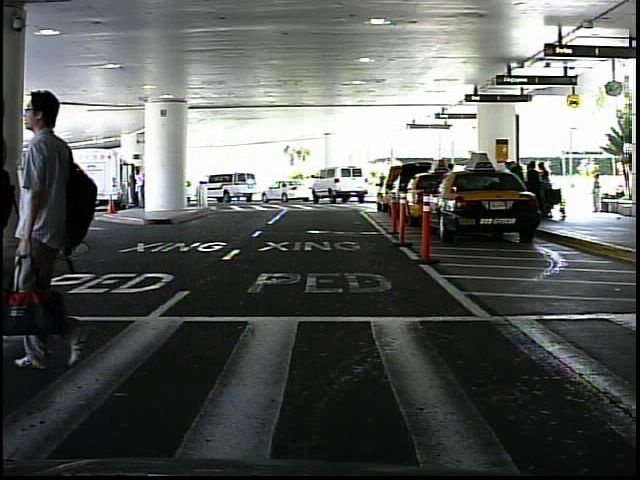person: (27, 68, 120, 385), (50, 171, 68, 221), (588, 172, 607, 218)
